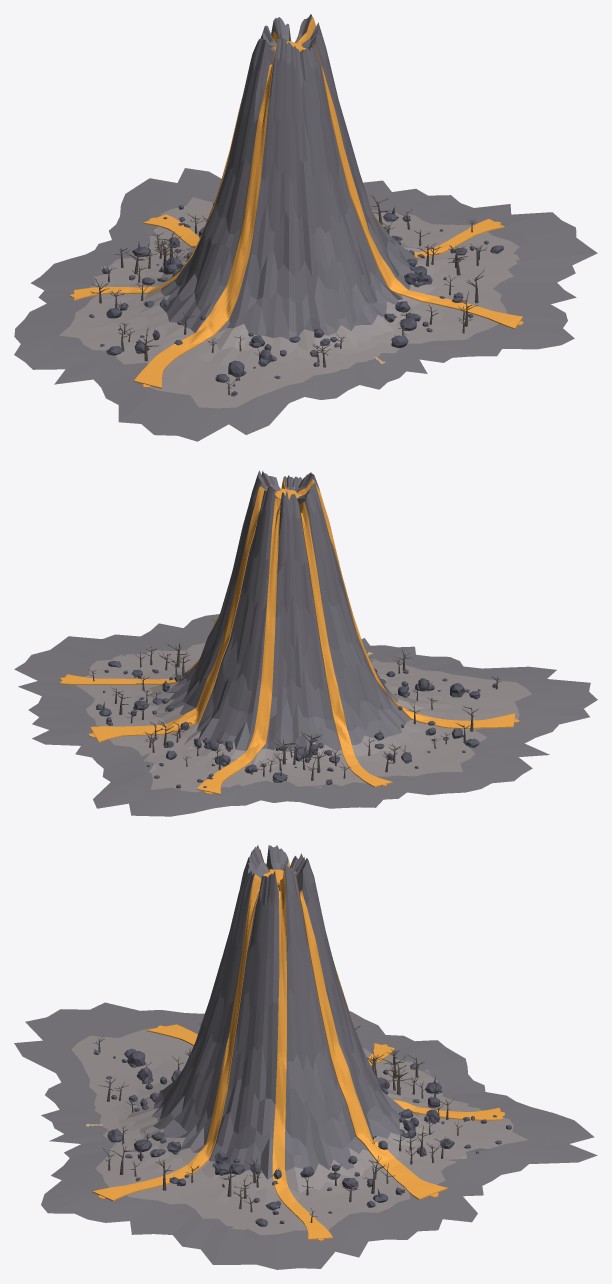
Rendered from island_volcano.glb.
3 renders of one model, top to bottom at view 1: azimuth 30°, elevation 25°; view 2: azimuth 150°, elevation 25°; view 3: azimuth 270°, elevation 25°, orthographic. The views are drawn at different scales.
Visible parts, largest first — view 1: Volcano_Base, Volcano_Lava, Volcano_Rocks, Volcano_DeadTrees; view 2: Volcano_Base, Volcano_Lava, Volcano_Rocks, Volcano_DeadTrees; view 3: Volcano_Base, Volcano_Lava, Volcano_Rocks, Volcano_DeadTrees.
Boxes of the visible parts, x1,y1,x2,y2 form: Volcano_Base: (14, 14, 597, 441); Volcano_Lava: (70, 17, 523, 388); Volcano_Rocks: (89, 203, 503, 396); Volcano_DeadTrees: (90, 194, 486, 394); Volcano_Base: (14, 470, 597, 816); Volcano_Lava: (60, 477, 519, 794); Volcano_Rocks: (96, 661, 497, 788); Volcano_DeadTrees: (87, 618, 501, 780); Volcano_Base: (14, 845, 597, 1269); Volcano_Lava: (92, 849, 504, 1241); Volcano_Rocks: (93, 1048, 511, 1226); Volcano_DeadTrees: (93, 1023, 462, 1222).
Bounding box in the file's own units: 1971 × 932 × 1784.
